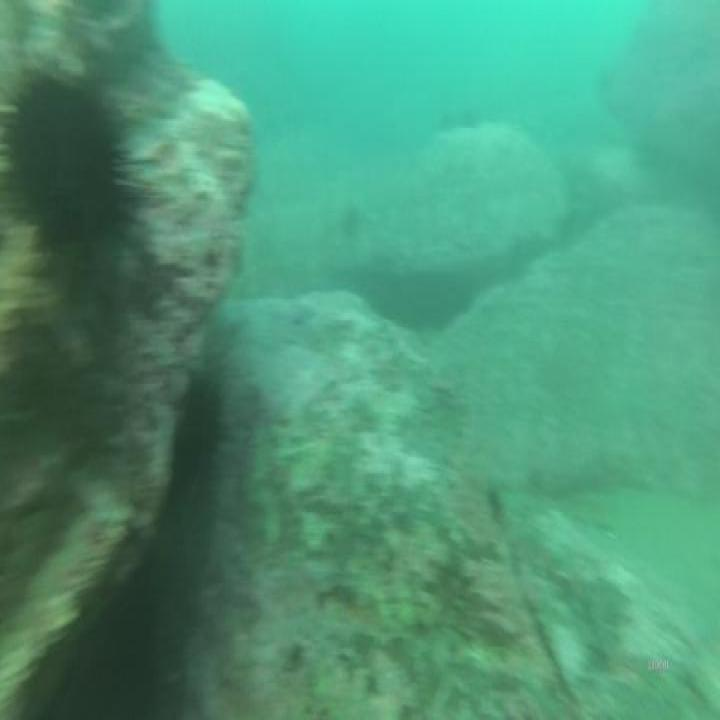echinus: (6, 55, 126, 269)
